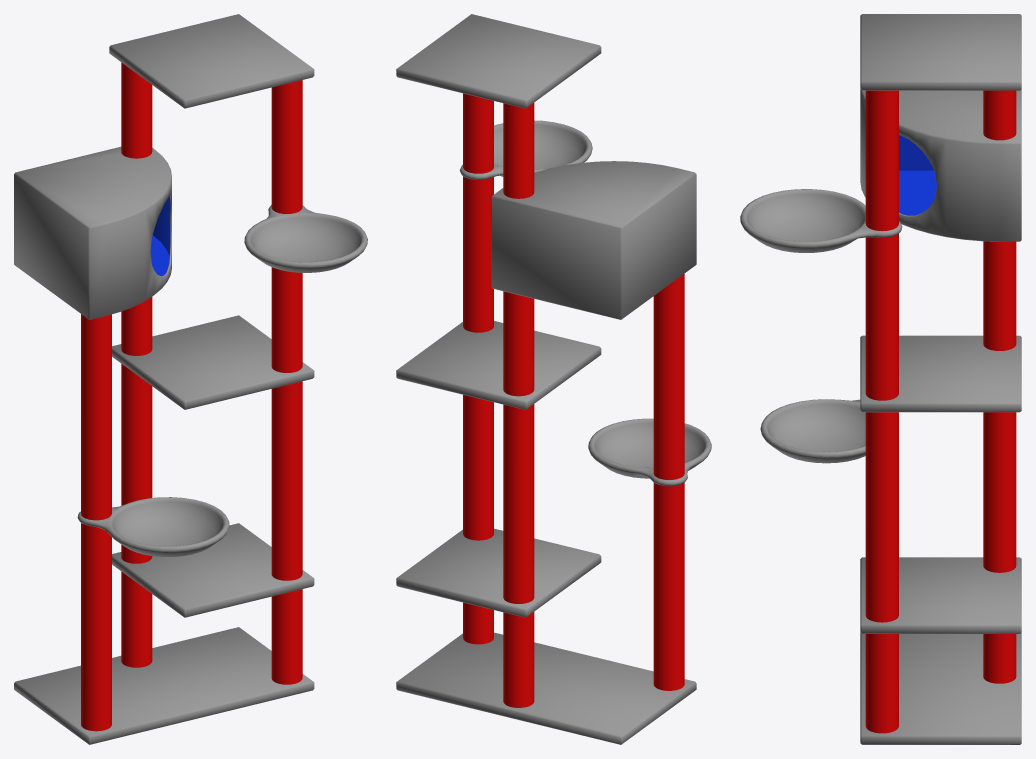
File: cat_tower.FBX
3 views of the same model, side by side, from view 1: azimuth 30°, elevation 25°; view 2: azimuth 150°, elevation 25°; view 3: azimuth 270°, elevation 25° (orthographic). The views are drawn at different scales.
Visible parts, largest first — view 1: Cat_climbing_tower; view 2: Cat_climbing_tower; view 3: Cat_climbing_tower.
Boxes of the visible parts, bbox=[...] form: Cat_climbing_tower: bbox=[14, 14, 367, 744]; Cat_climbing_tower: bbox=[396, 14, 711, 744]; Cat_climbing_tower: bbox=[740, 14, 1021, 744].
Bounding box in the file's own units: 174 × 421 × 162.
